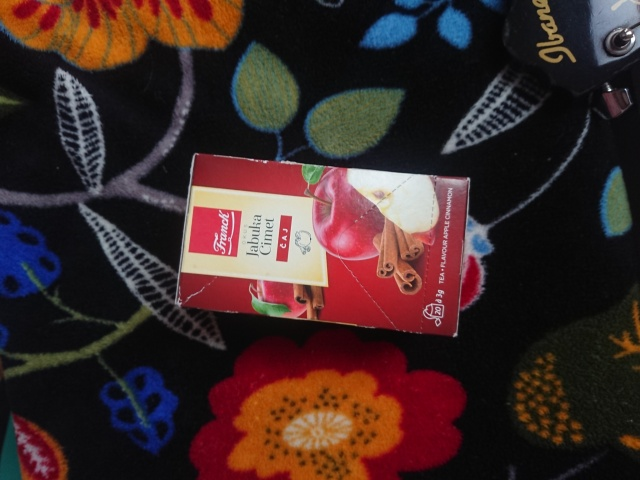Franck Apple Cinnamon Tea 60g: (172, 151, 472, 340)
